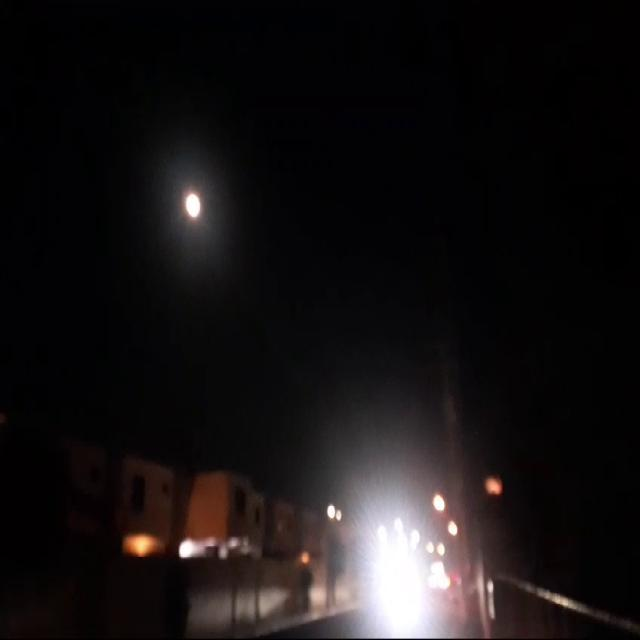moon: (186, 189, 205, 223)
